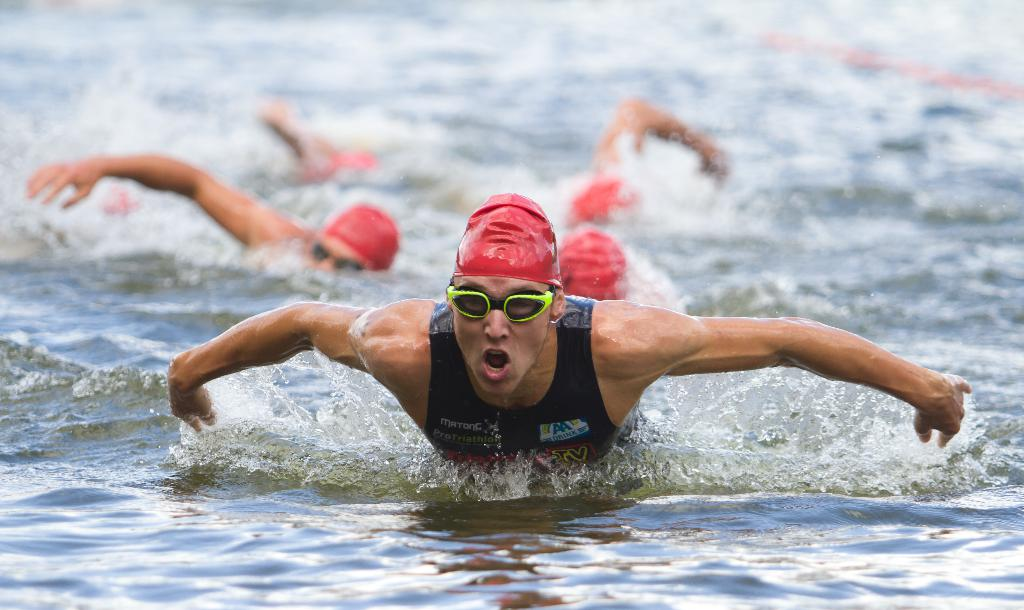Human_hand: (915, 374, 973, 449), (28, 157, 101, 211), (169, 353, 217, 433)
